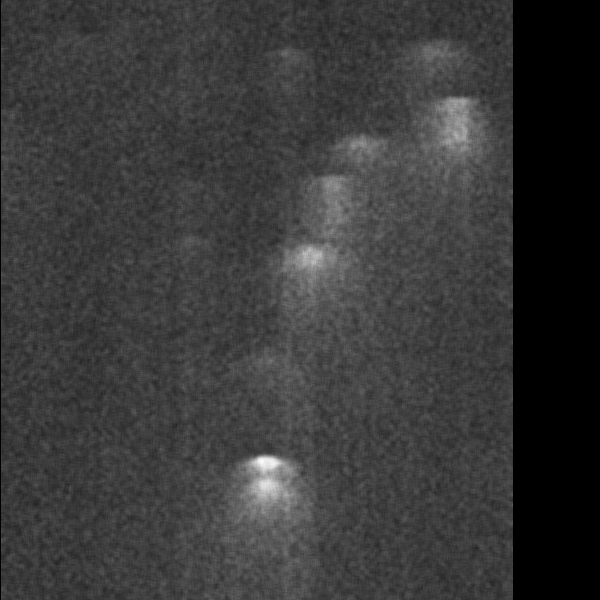spark: (49, 169, 149, 207)
